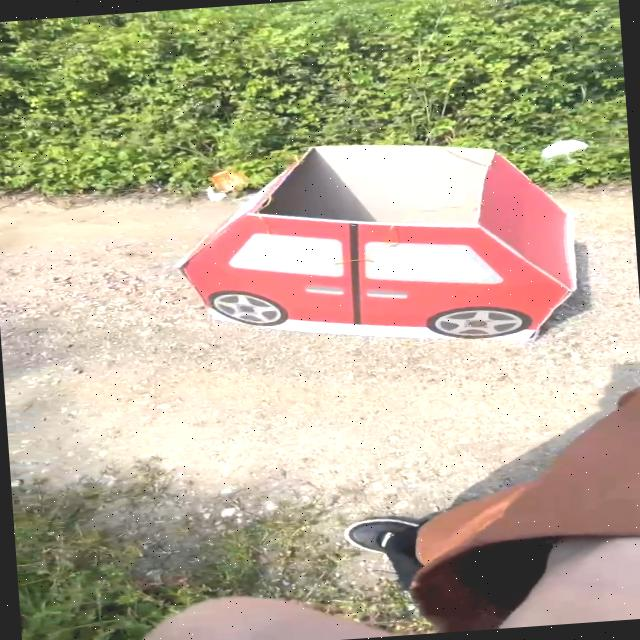red_car: (131, 104, 616, 388)
